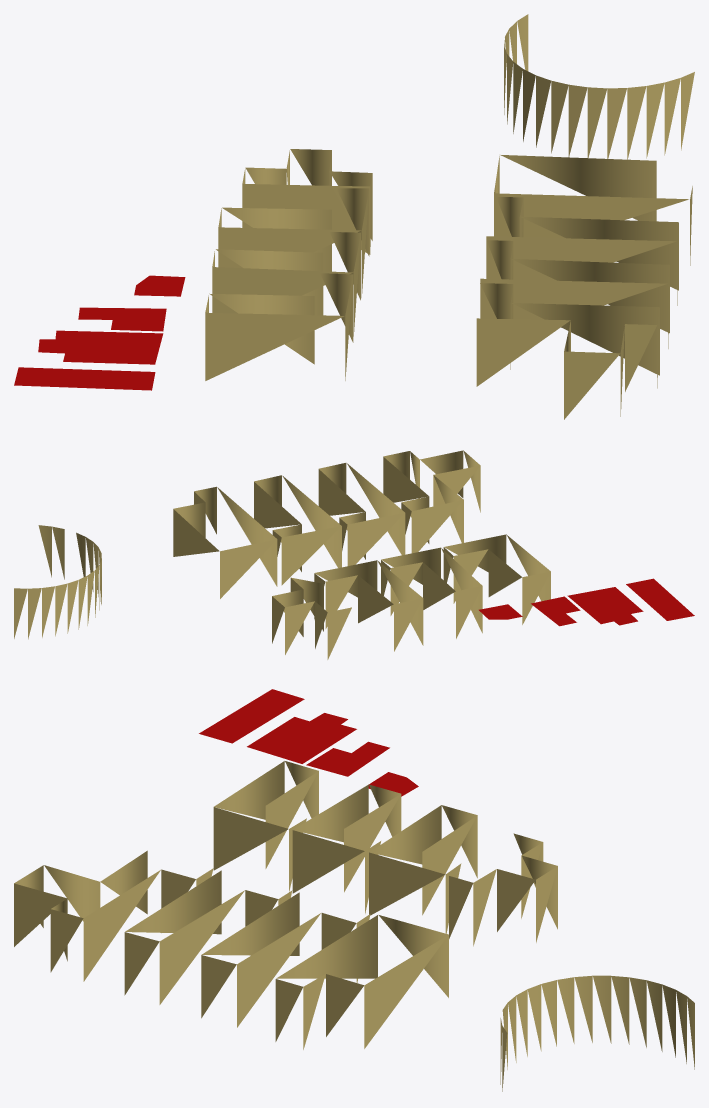
The picture shows the model from 3 angles, top to bottom: view 1: azimuth 30°, elevation 25°; view 2: azimuth 150°, elevation 25°; view 3: azimuth 270°, elevation 25°; orthographic projection. The views are drawn at different scales.
Size of the model in its own units: 345 by 30 by 270.
